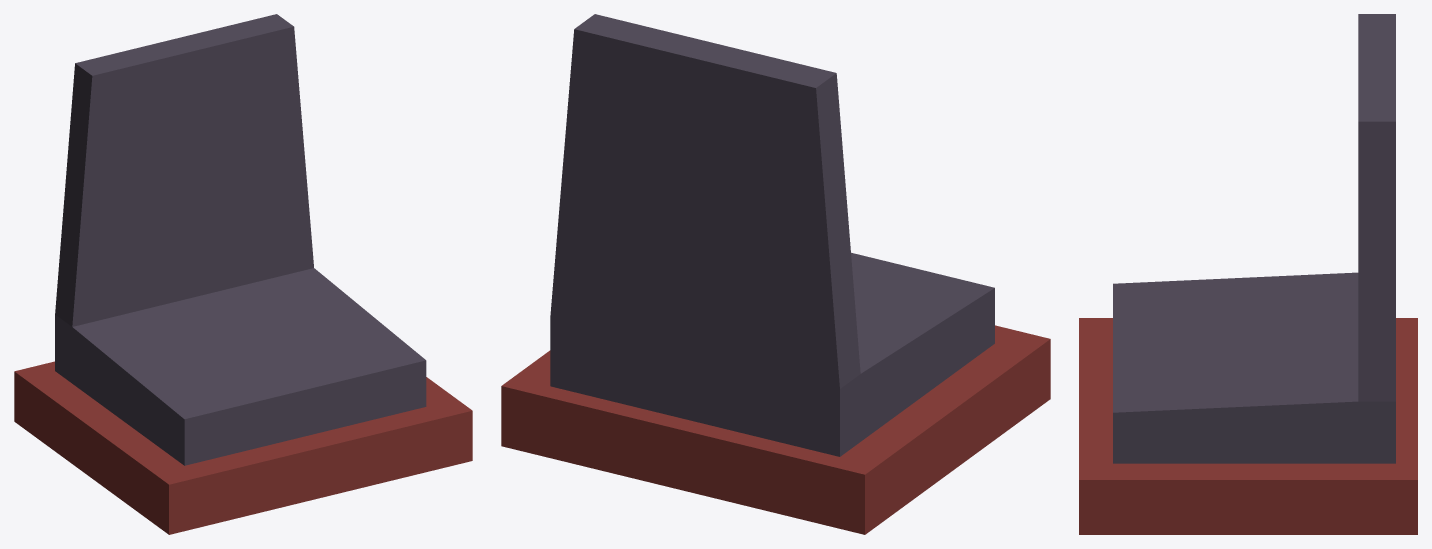
Rendered from Chair1.fbx.
3 renders of one model, left to right at view 1: azimuth 30°, elevation 25°; view 2: azimuth 150°, elevation 25°; view 3: azimuth 270°, elevation 25°, orthographic. The views are drawn at different scales.
Parts seen in each view (by area): view 1: Chair1; view 2: Chair1; view 3: Chair1.
Part boxes in pixels (bbox=[...]): Chair1: bbox=[14, 14, 472, 534]; Chair1: bbox=[501, 14, 1050, 534]; Chair1: bbox=[1079, 14, 1417, 534].
Size of the model in its own units: 408 by 454 by 361.
